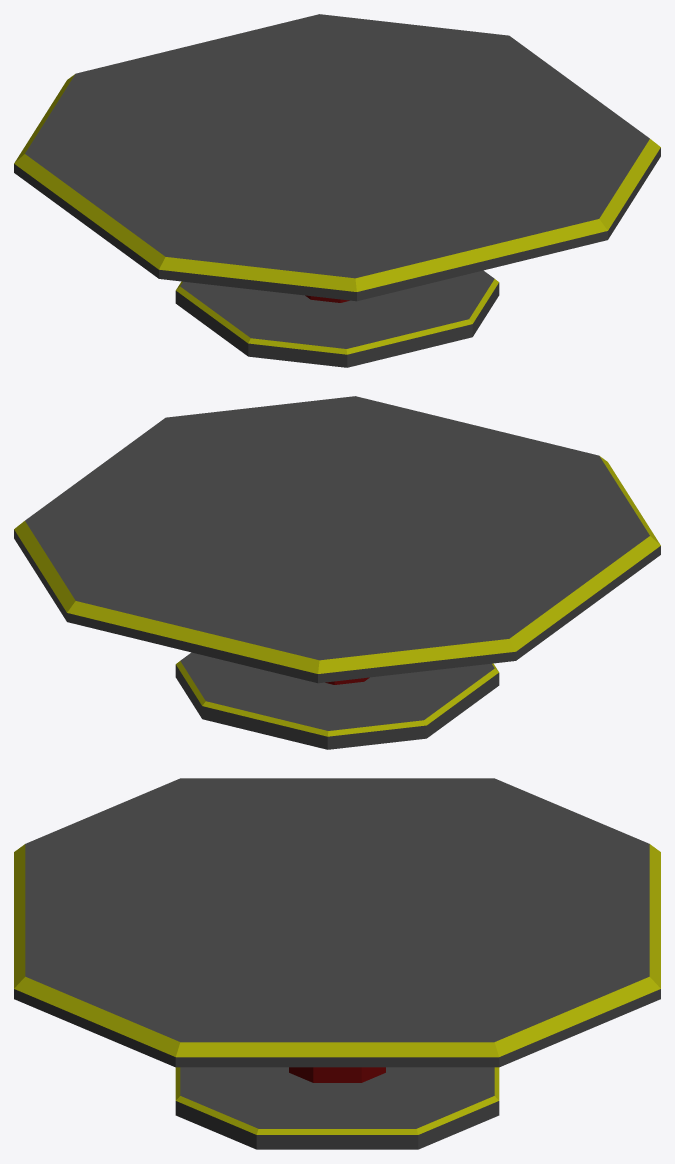
File: Table.fbx
3 views of the same model, one above another, from view 1: azimuth 30°, elevation 25°; view 2: azimuth 150°, elevation 25°; view 3: azimuth 270°, elevation 25° (orthographic). The views are drawn at different scales.
Parts seen in each view (by area): view 1: pCube3, pCube1; view 2: pCube3, pCube1; view 3: pCube3, pCube1, pCube2.
Boxes of the visible parts, x1=… form: pCube3: x1=14, y1=14, x2=660, y2=301; pCube1: x1=175, y1=270, x2=499, y2=367; pCube3: x1=14, y1=396, x2=660, y2=683; pCube1: x1=175, y1=652, x2=499, y2=749; pCube3: x1=14, y1=778, x2=660, y2=1067; pCube1: x1=175, y1=1067, x2=499, y2=1149; pCube2: x1=289, y1=1067, x2=385, y2=1082.
Bounding box in the file's own units: 20 × 5.83 × 20.
